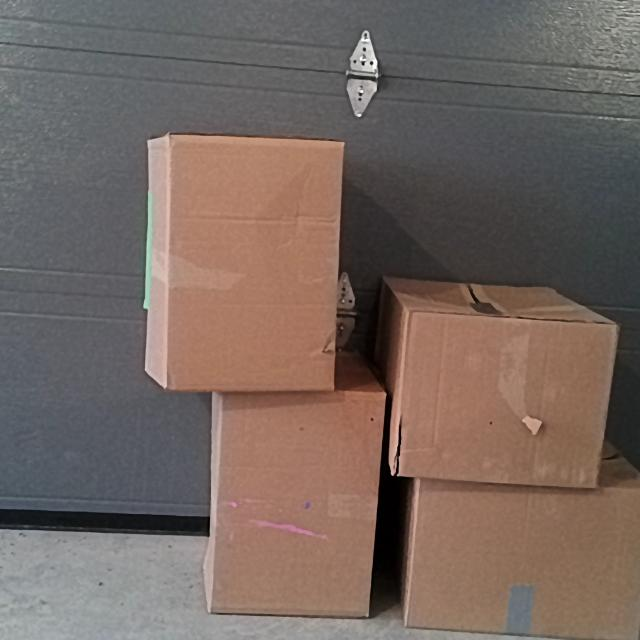box: (168, 135, 335, 392), (219, 392, 380, 618), (396, 318, 610, 478), (413, 483, 640, 633)
